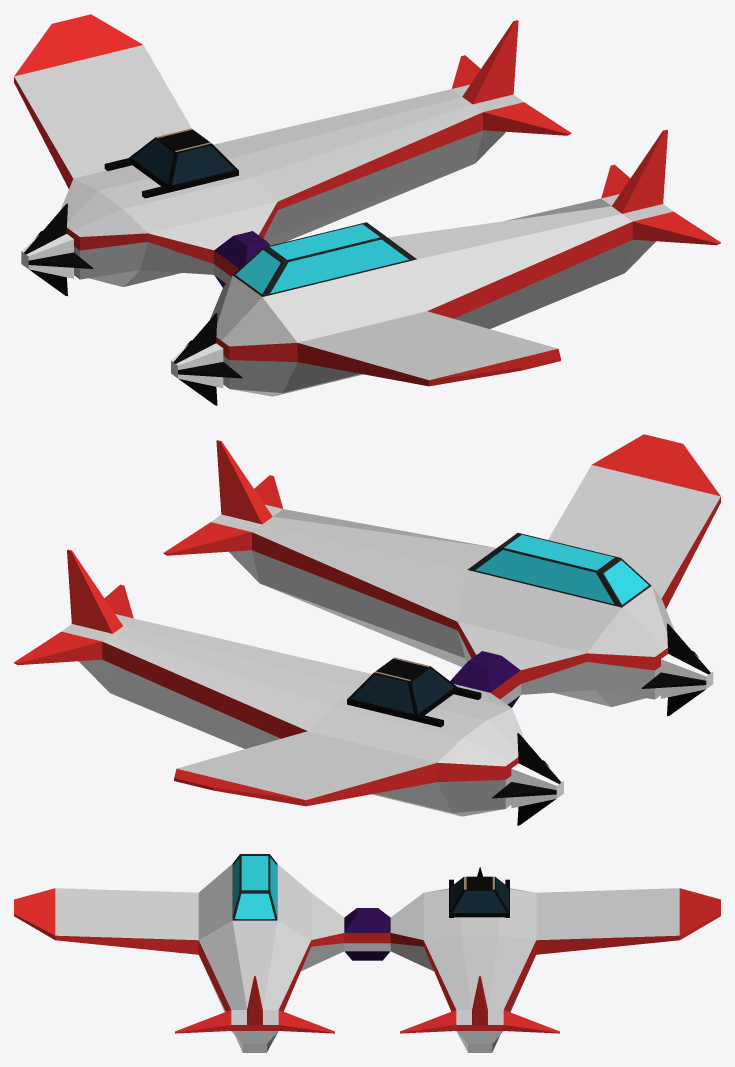
File: ModelDual.fbx
3 renders of one model, top to bottom at view 1: azimuth 30°, elevation 25°; view 2: azimuth 150°, elevation 25°; view 3: azimuth 270°, elevation 25°, orthographic. The views are drawn at different scales.
Visible parts, largest first — view 1: Cube, Cube.003, Cube.001, Cube.002; view 2: Cube, Cube.003, Cube.002, Cube.001; view 3: Cube, Cube.003.
Boxes of the visible parts, x1,y1,x2,y2 form: Cube: [14, 14, 720, 396]; Cube.003: [104, 128, 238, 198]; Cube.001: [171, 313, 242, 405]; Cube.002: [21, 203, 93, 296]; Cube: [14, 434, 720, 816]; Cube.003: [347, 657, 481, 727]; Cube.002: [492, 733, 563, 825]; Cube.001: [641, 623, 713, 716]; Cube: [14, 854, 720, 1052]; Cube.003: [449, 876, 509, 917].
Size of the model in its own units: 762 by 245 by 1257.
